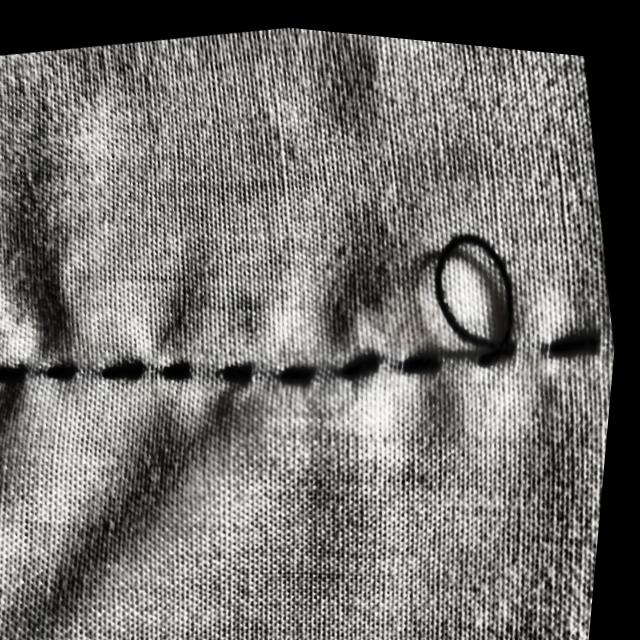Stitch: (403, 137, 581, 409)
